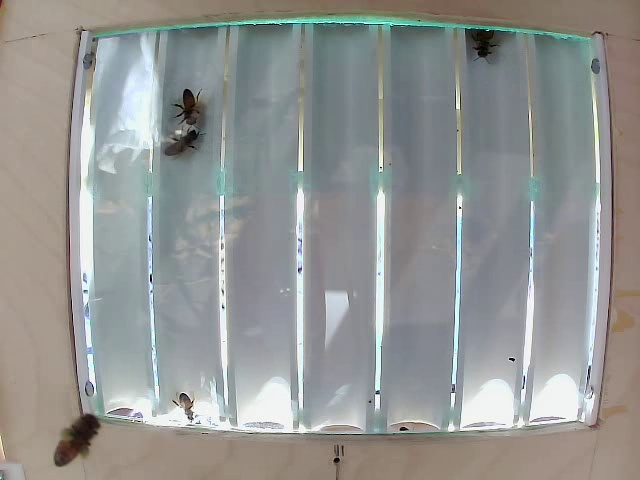bee: (464, 15, 502, 70), (160, 129, 213, 167), (168, 87, 213, 129)
